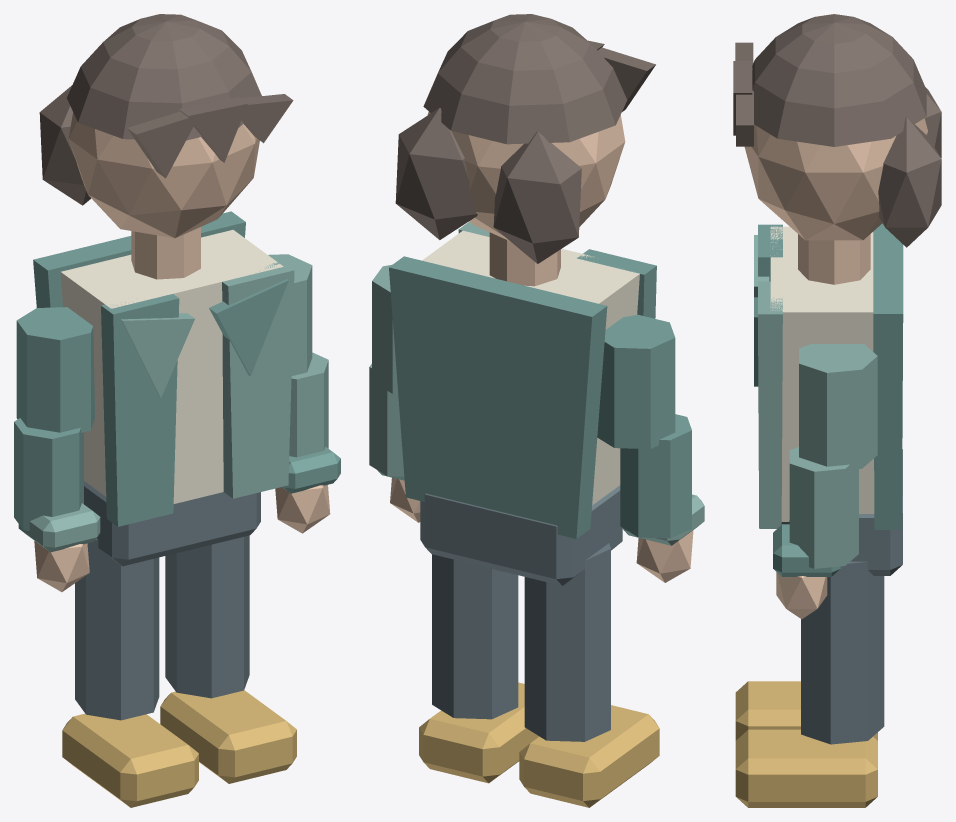
The model's file is echo_world_faceless_person.glb.
3 renders of one model, left to right at view 1: azimuth 30°, elevation 25°; view 2: azimuth 150°, elevation 25°; view 3: azimuth 270°, elevation 25°, orthographic. The views are drawn at different scales.
Visible parts, largest first — view 1: GEO_Shirt_Base, GEO_Hair_Cap, GEO_Head_Blank, GEO_Jacket_Front_L, GEO_Pants_Leg_L, GEO_Pants_Leg_R, GEO_Jacket_Front_R, GEO_Shoe_L, GEO_Jacket_UpperArm_L, GEO_Shoe_R, GEO_Pants_Waist, GEO_Jacket_Forearm_L (+14 smaller); view 2: GEO_Jacket_BackShell, GEO_Hair_Cap, GEO_Pants_Leg_L, GEO_Pants_Leg_R, GEO_Pants_Waist, GEO_Jacket_UpperArm_L, GEO_Shoe_L, GEO_Hair_Back_L, GEO_Shirt_Base, GEO_Hair_Back_R, GEO_Jacket_Forearm_L, GEO_Head_Blank (+9 smaller); view 3: GEO_Hair_Cap, GEO_Pants_Leg_R, GEO_Head_Blank, GEO_Shirt_Base, GEO_Shoe_R, GEO_Jacket_UpperArm_R, GEO_Jacket_BackShell, GEO_Jacket_Forearm_R, GEO_Hair_Back_R, GEO_Jacket_Front_R, GEO_Shoe_L, GEO_Neck (+8 smaller).
Part boxes in pixels (x1,y1,x2,y2): GEO_Shirt_Base: (60, 230, 283, 503); GEO_Hair_Cap: (67, 14, 261, 140); GEO_Head_Blank: (68, 112, 259, 238); GEO_Jacket_Front_L: (101, 294, 179, 526); GEO_Pants_Leg_L: (75, 538, 159, 720); GEO_Pants_Leg_R: (165, 535, 249, 698); GEO_Jacket_Front_R: (222, 261, 294, 498); GEO_Shoe_L: (62, 713, 198, 807); GEO_Jacket_UpperArm_L: (16, 307, 94, 432); GEO_Shoe_R: (160, 690, 296, 783); GEO_Pants_Waist: (84, 481, 260, 566); GEO_Jacket_Forearm_L: (14, 418, 83, 530); GEO_Jacket_BackShell: (389, 256, 607, 538); GEO_Hair_Cap: (423, 14, 627, 144); GEO_Pants_Leg_L: (524, 543, 610, 741); GEO_Pants_Leg_R: (432, 554, 518, 719); GEO_Pants_Waist: (420, 485, 622, 585); GEO_Jacket_UpperArm_L: (597, 314, 675, 449); GEO_Shoe_L: (519, 705, 659, 807); GEO_Hair_Back_L: (493, 131, 581, 263); GEO_Shirt_Base: (422, 230, 639, 505); GEO_Hair_Back_R: (395, 108, 477, 239); GEO_Jacket_Forearm_L: (620, 414, 691, 538); GEO_Head_Blank: (427, 111, 625, 240); GEO_Hair_Cap: (752, 14, 926, 146); GEO_Pants_Leg_R: (801, 561, 884, 744); GEO_Head_Blank: (744, 118, 927, 240); GEO_Shirt_Base: (770, 226, 874, 521); GEO_Shoe_R: (735, 729, 877, 807); GEO_Jacket_UpperArm_R: (799, 344, 877, 469); GEO_Jacket_BackShell: (873, 223, 903, 529); GEO_Jacket_Forearm_R: (789, 447, 858, 568); GEO_Hair_Back_R: (878, 116, 941, 247); GEO_Jacket_Front_R: (758, 281, 782, 528); GEO_Shoe_L: (735, 681, 877, 740); GEO_Neck: (798, 234, 870, 284).
Bounding box in the file's own units: 0.7163 × 1.65 × 0.4168.
